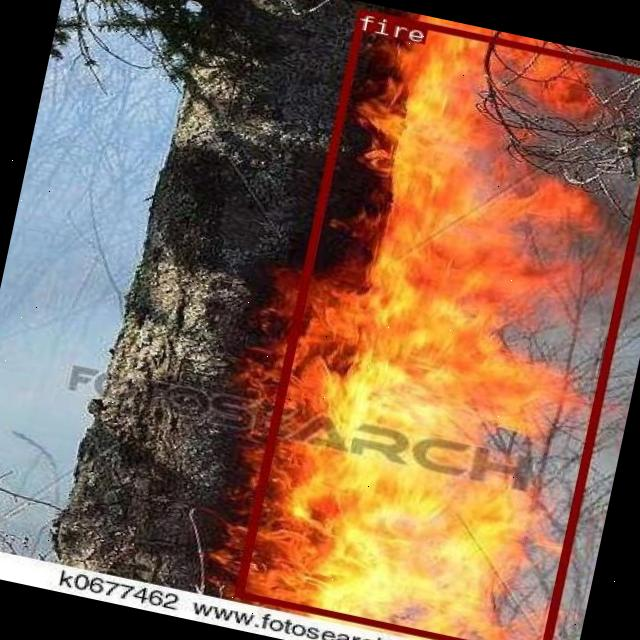fire: (233, 7, 640, 640)
